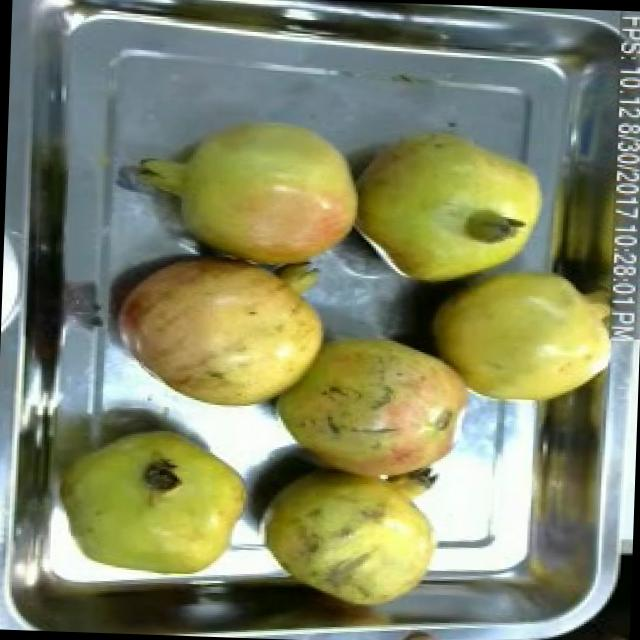fruit: (118, 101, 376, 294), (104, 244, 342, 420), (338, 115, 552, 296), (264, 320, 478, 498), (48, 415, 258, 588), (419, 254, 632, 416), (246, 462, 452, 618)
